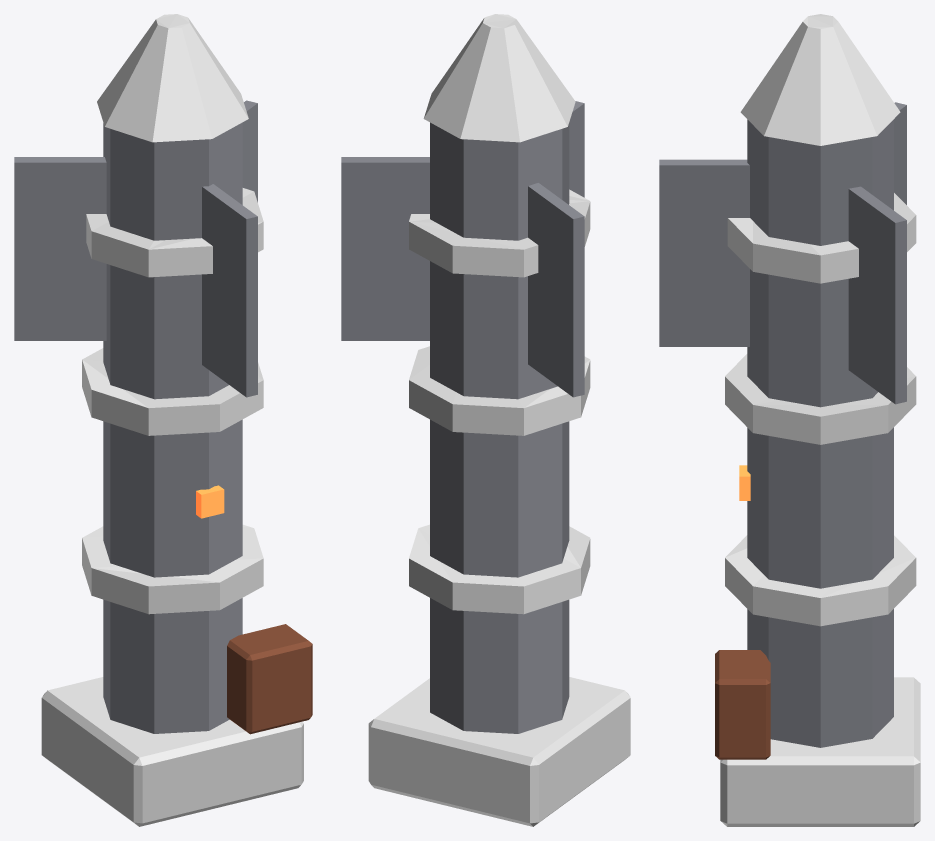
File: Tech_Vaporator.fbx
3 renders of one model, left to right at view 1: azimuth 30°, elevation 25°; view 2: azimuth 150°, elevation 25°; view 3: azimuth 270°, elevation 25°, orthographic.
Parts seen in each view (by area): view 1: Tech_Vaporator; view 2: Tech_Vaporator; view 3: Tech_Vaporator.
Part boxes in pixels (<box>): Tech_Vaporator: <box>14,14,312,826</box>; Tech_Vaporator: <box>341,14,630,826</box>; Tech_Vaporator: <box>659,14,920,826</box>.
Size of the model in its own units: 1.29 by 3.8 by 1.17.
